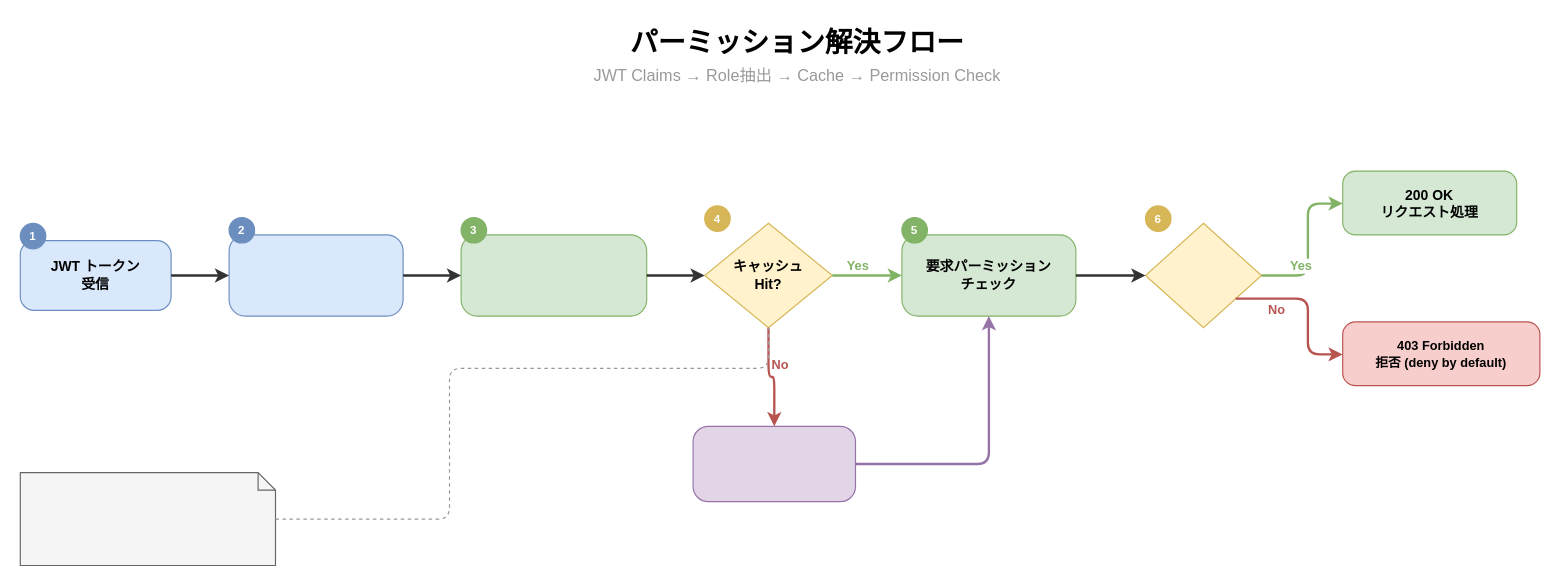
Some shapes in this 1560 by 586 pixel diagram are drawn without their labels. Here are the shapes that lost their labels. From the top down, the box of each, then its label:
(228, 234, 403, 316): realm_access.roles resource_access 取得
(460, 234, 647, 316): ロール→パーミッション 変換テーブル参照
(1144, 222, 1262, 328): 権限 あり?
(692, 425, 855, 502): Keycloak Admin API から再取得
(19, 472, 276, 566): キャッシュ TTL: 5分 バックグラウンド更新 フォールバック: 既存キャッシュ継続
